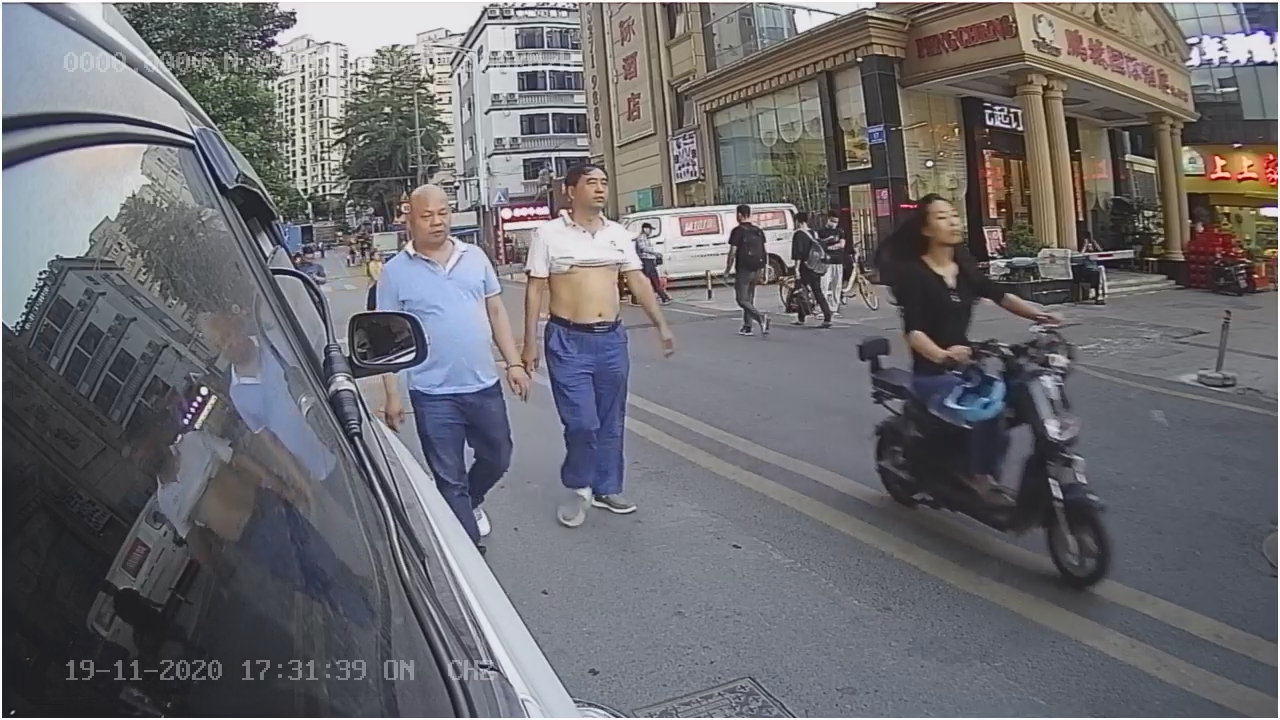person: (522, 163, 663, 519), (867, 196, 1008, 343)
